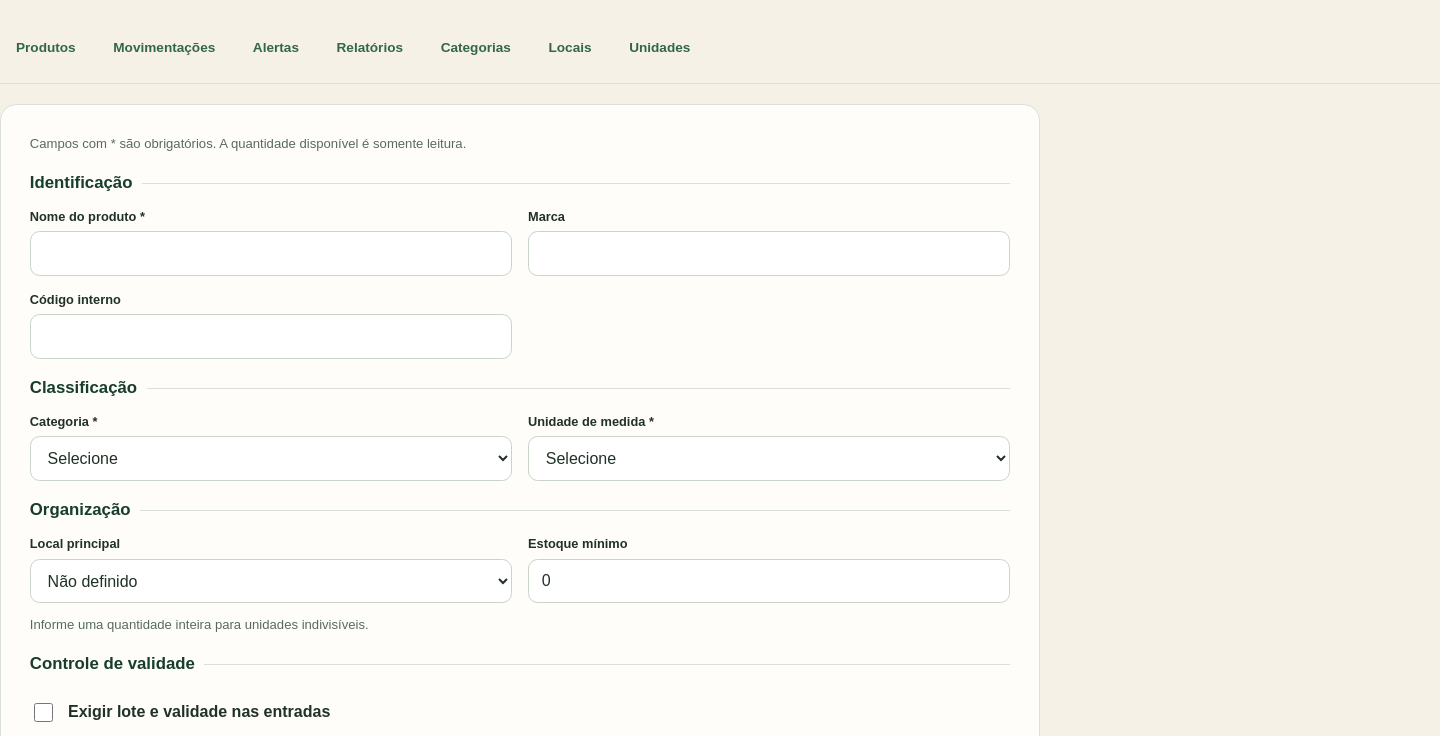
Test: bloqueia frações em caixas antes do envio e preserva os campos
This screenshot has width=1440, height=736.
Type "Caixas" into the field labelled "Nome do produto *".
click(271, 254); type("Caixas")  # box [30,231,512,276]
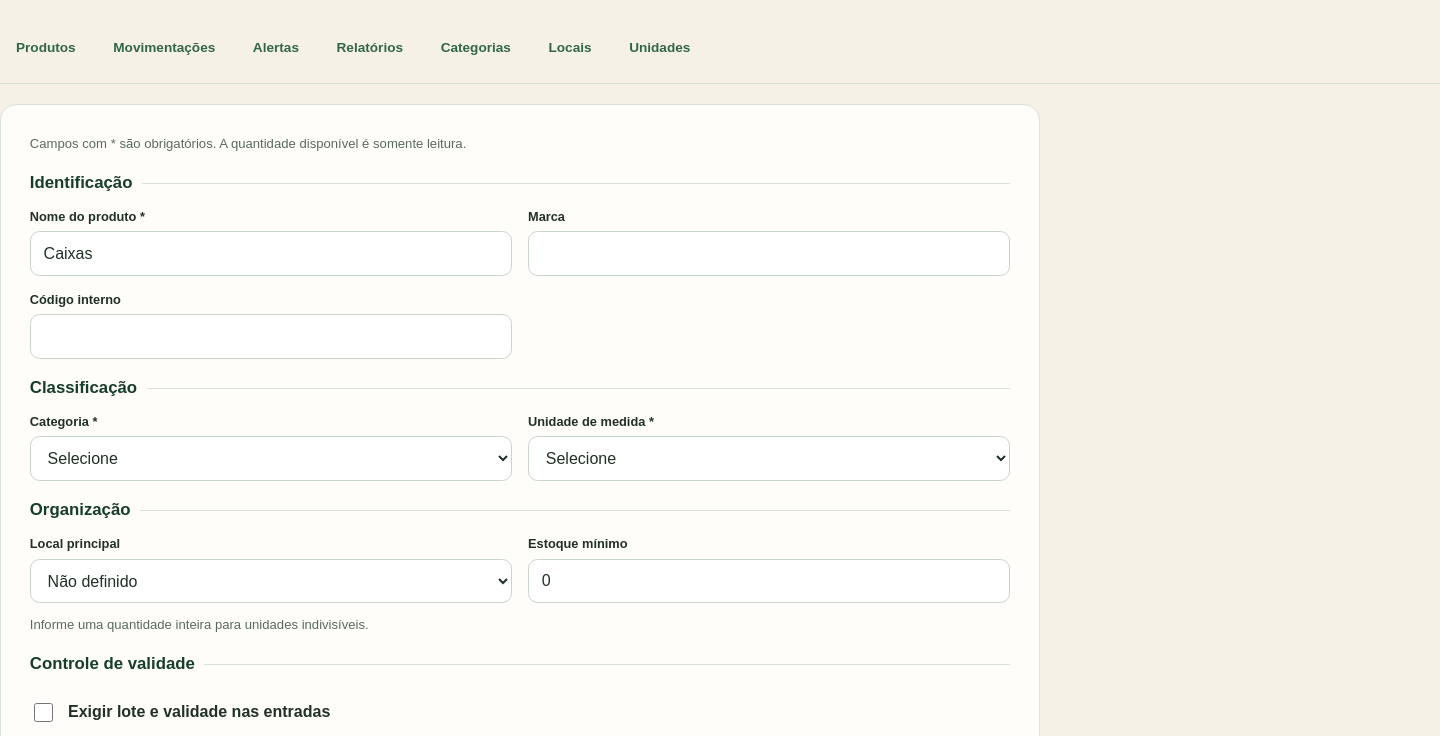
Select "Alimentação" in the dropdown labelled "Categoria *" at (271, 459), box [30,436,512,481]
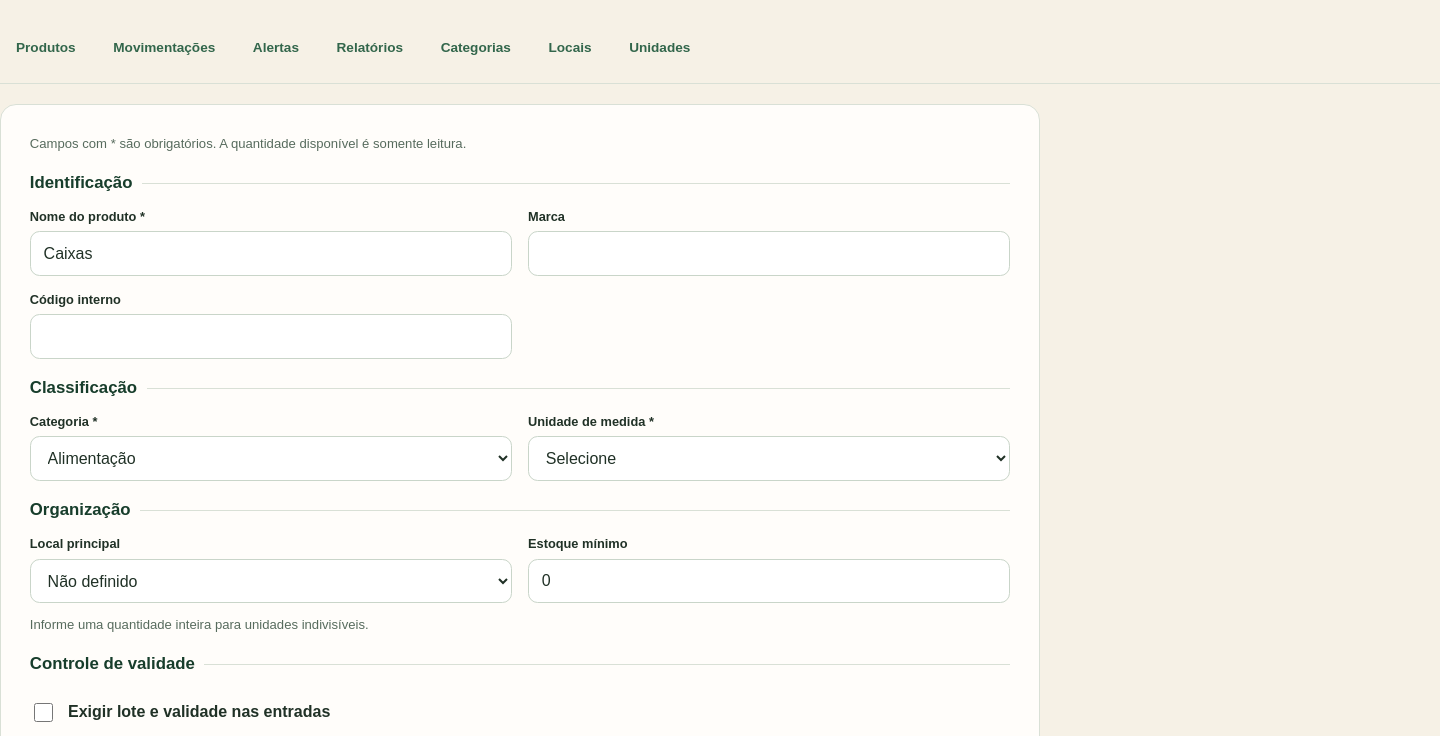
Select "Caixa (cx)" in the dropdown labelled "Unidade de medida *" at (769, 459), box [528,436,1010,481]
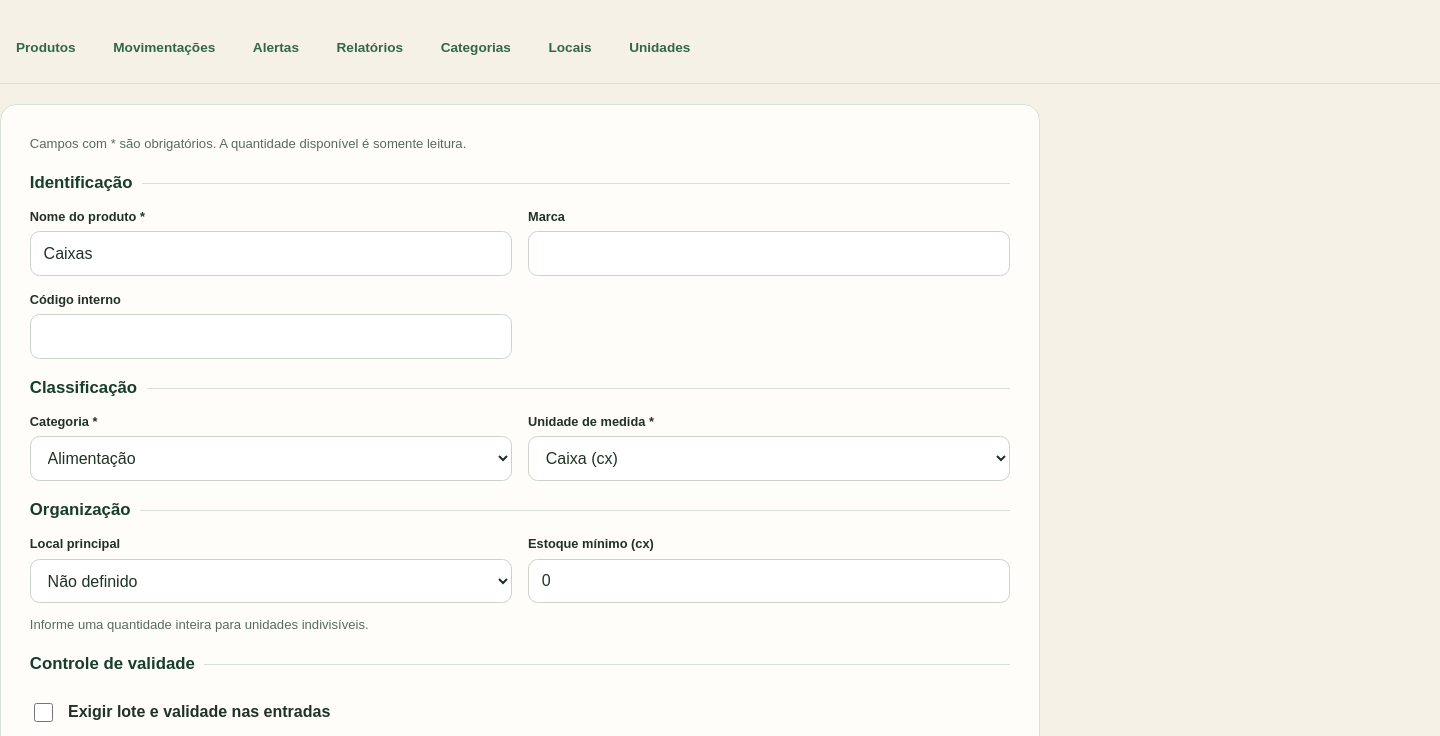
Replace the text in the field labelled "Estoque mínimo (cx)" with "2.5" at (769, 581), box [528,559,1010,603]
(page scrolled)
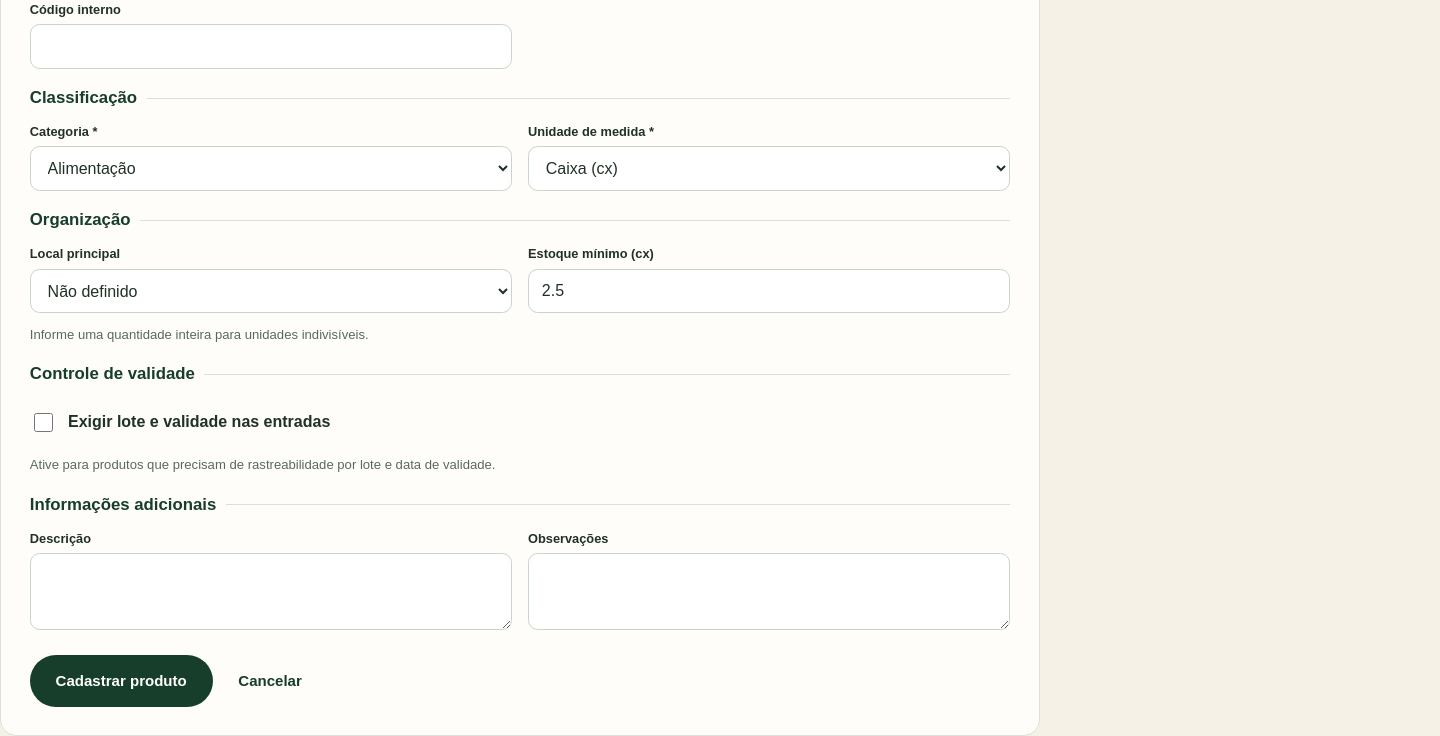
Click the button "Cadastrar produto".
click(121, 681)  # box [30,655,212,707]
(page scrolled)
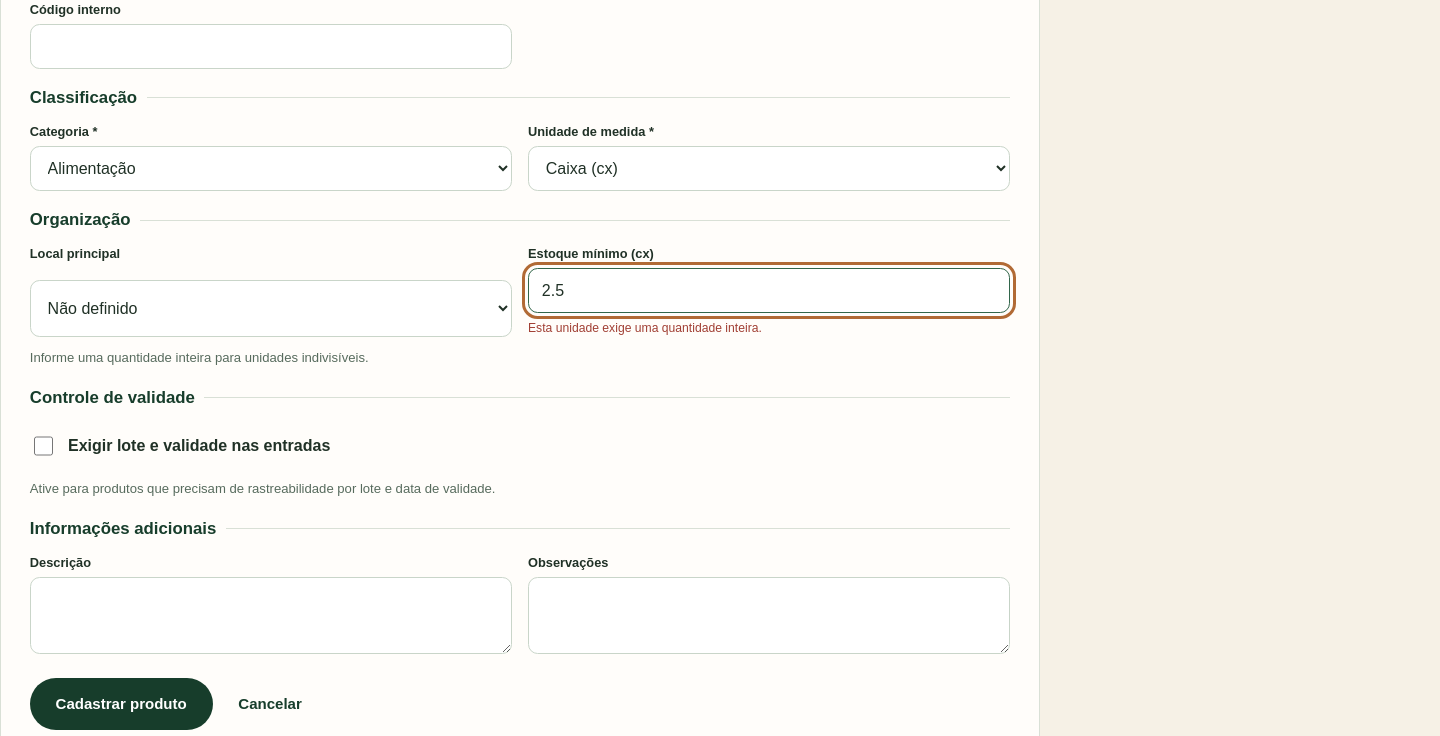
Now the text "Esta unidade exige uma quantidade inteira." is shown, box [528,321,762,335]
